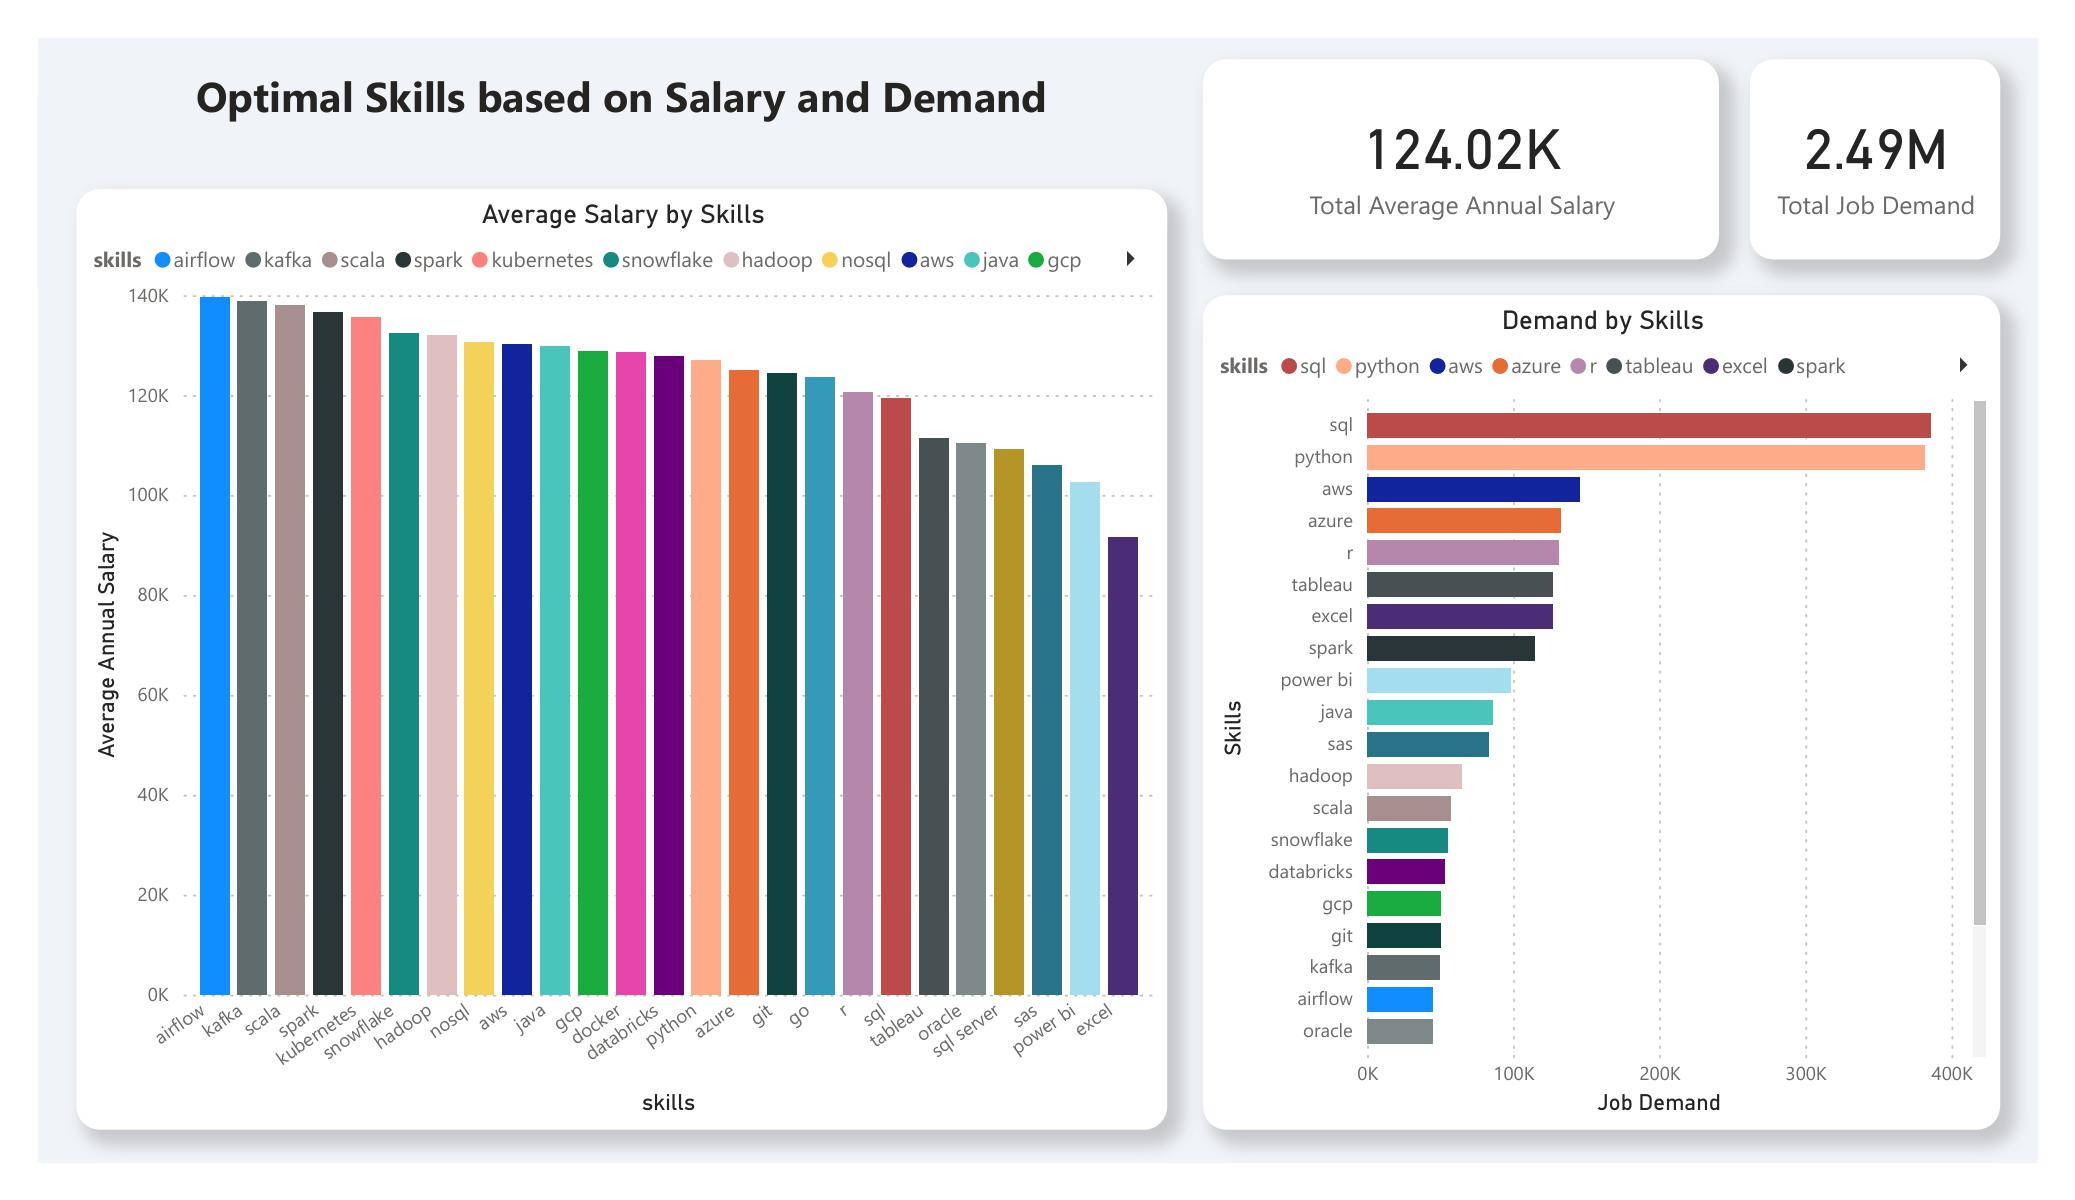

The dashboard page shown, as its layout file describes it:
{"tool":"powerbi","page":{"name":"Page 4","canvas":[1280,720],"ordinal":3},"visuals":[{"type":"barChart","title":"Demand by Skills","fields":{"Category":["Top Optimal Skills.skills"],"Y":["Sum(Top Optimal Skills.job_count)"],"Series":["Top Optimal Skills.skills"]},"box":[746.4,165.5,510,533.6],"z":0},{"type":"columnChart","title":"Average Salary by Skills","fields":{"Category":["Top Optimal Skills.skills"],"Y":["Avg(Top Optimal Skills.yearly_salary_avg)"],"Series":["Top Optimal Skills.skills"]},"box":[24.5,97.3,698.2,601.8],"z":1000},{"type":"textbox","box":[24.5,13.6,698.2,47.3],"z":2000},{"type":"card","fields":{"Values":["Sum(Top Optimal Skills.job_count)"]},"box":[1096.4,13.6,160,128.2],"z":3000},{"type":"card","fields":{"Values":["Avg(Top Optimal Skills.yearly_salary_avg)"]},"box":[746.4,13.6,330,128.2],"z":4000}]}

Visuals, with their boxes on the page's 1280x720 design canvas (x1, y1, x2, y2). These are canvas units, not pixel positions in the 2075x1200 screenshot, which may show the page scaled, cropped or inside an application window:
"Demand by Skills" barChart: x1=746 y1=166 x2=1256 y2=699
"Average Salary by Skills" columnChart: x1=24 y1=97 x2=723 y2=699
textbox: x1=24 y1=14 x2=723 y2=61
card - Sum(Top Optimal Skills.job_count): x1=1096 y1=14 x2=1256 y2=142
card - Avg(Top Optimal Skills.yearly_salary_avg): x1=746 y1=14 x2=1076 y2=142
